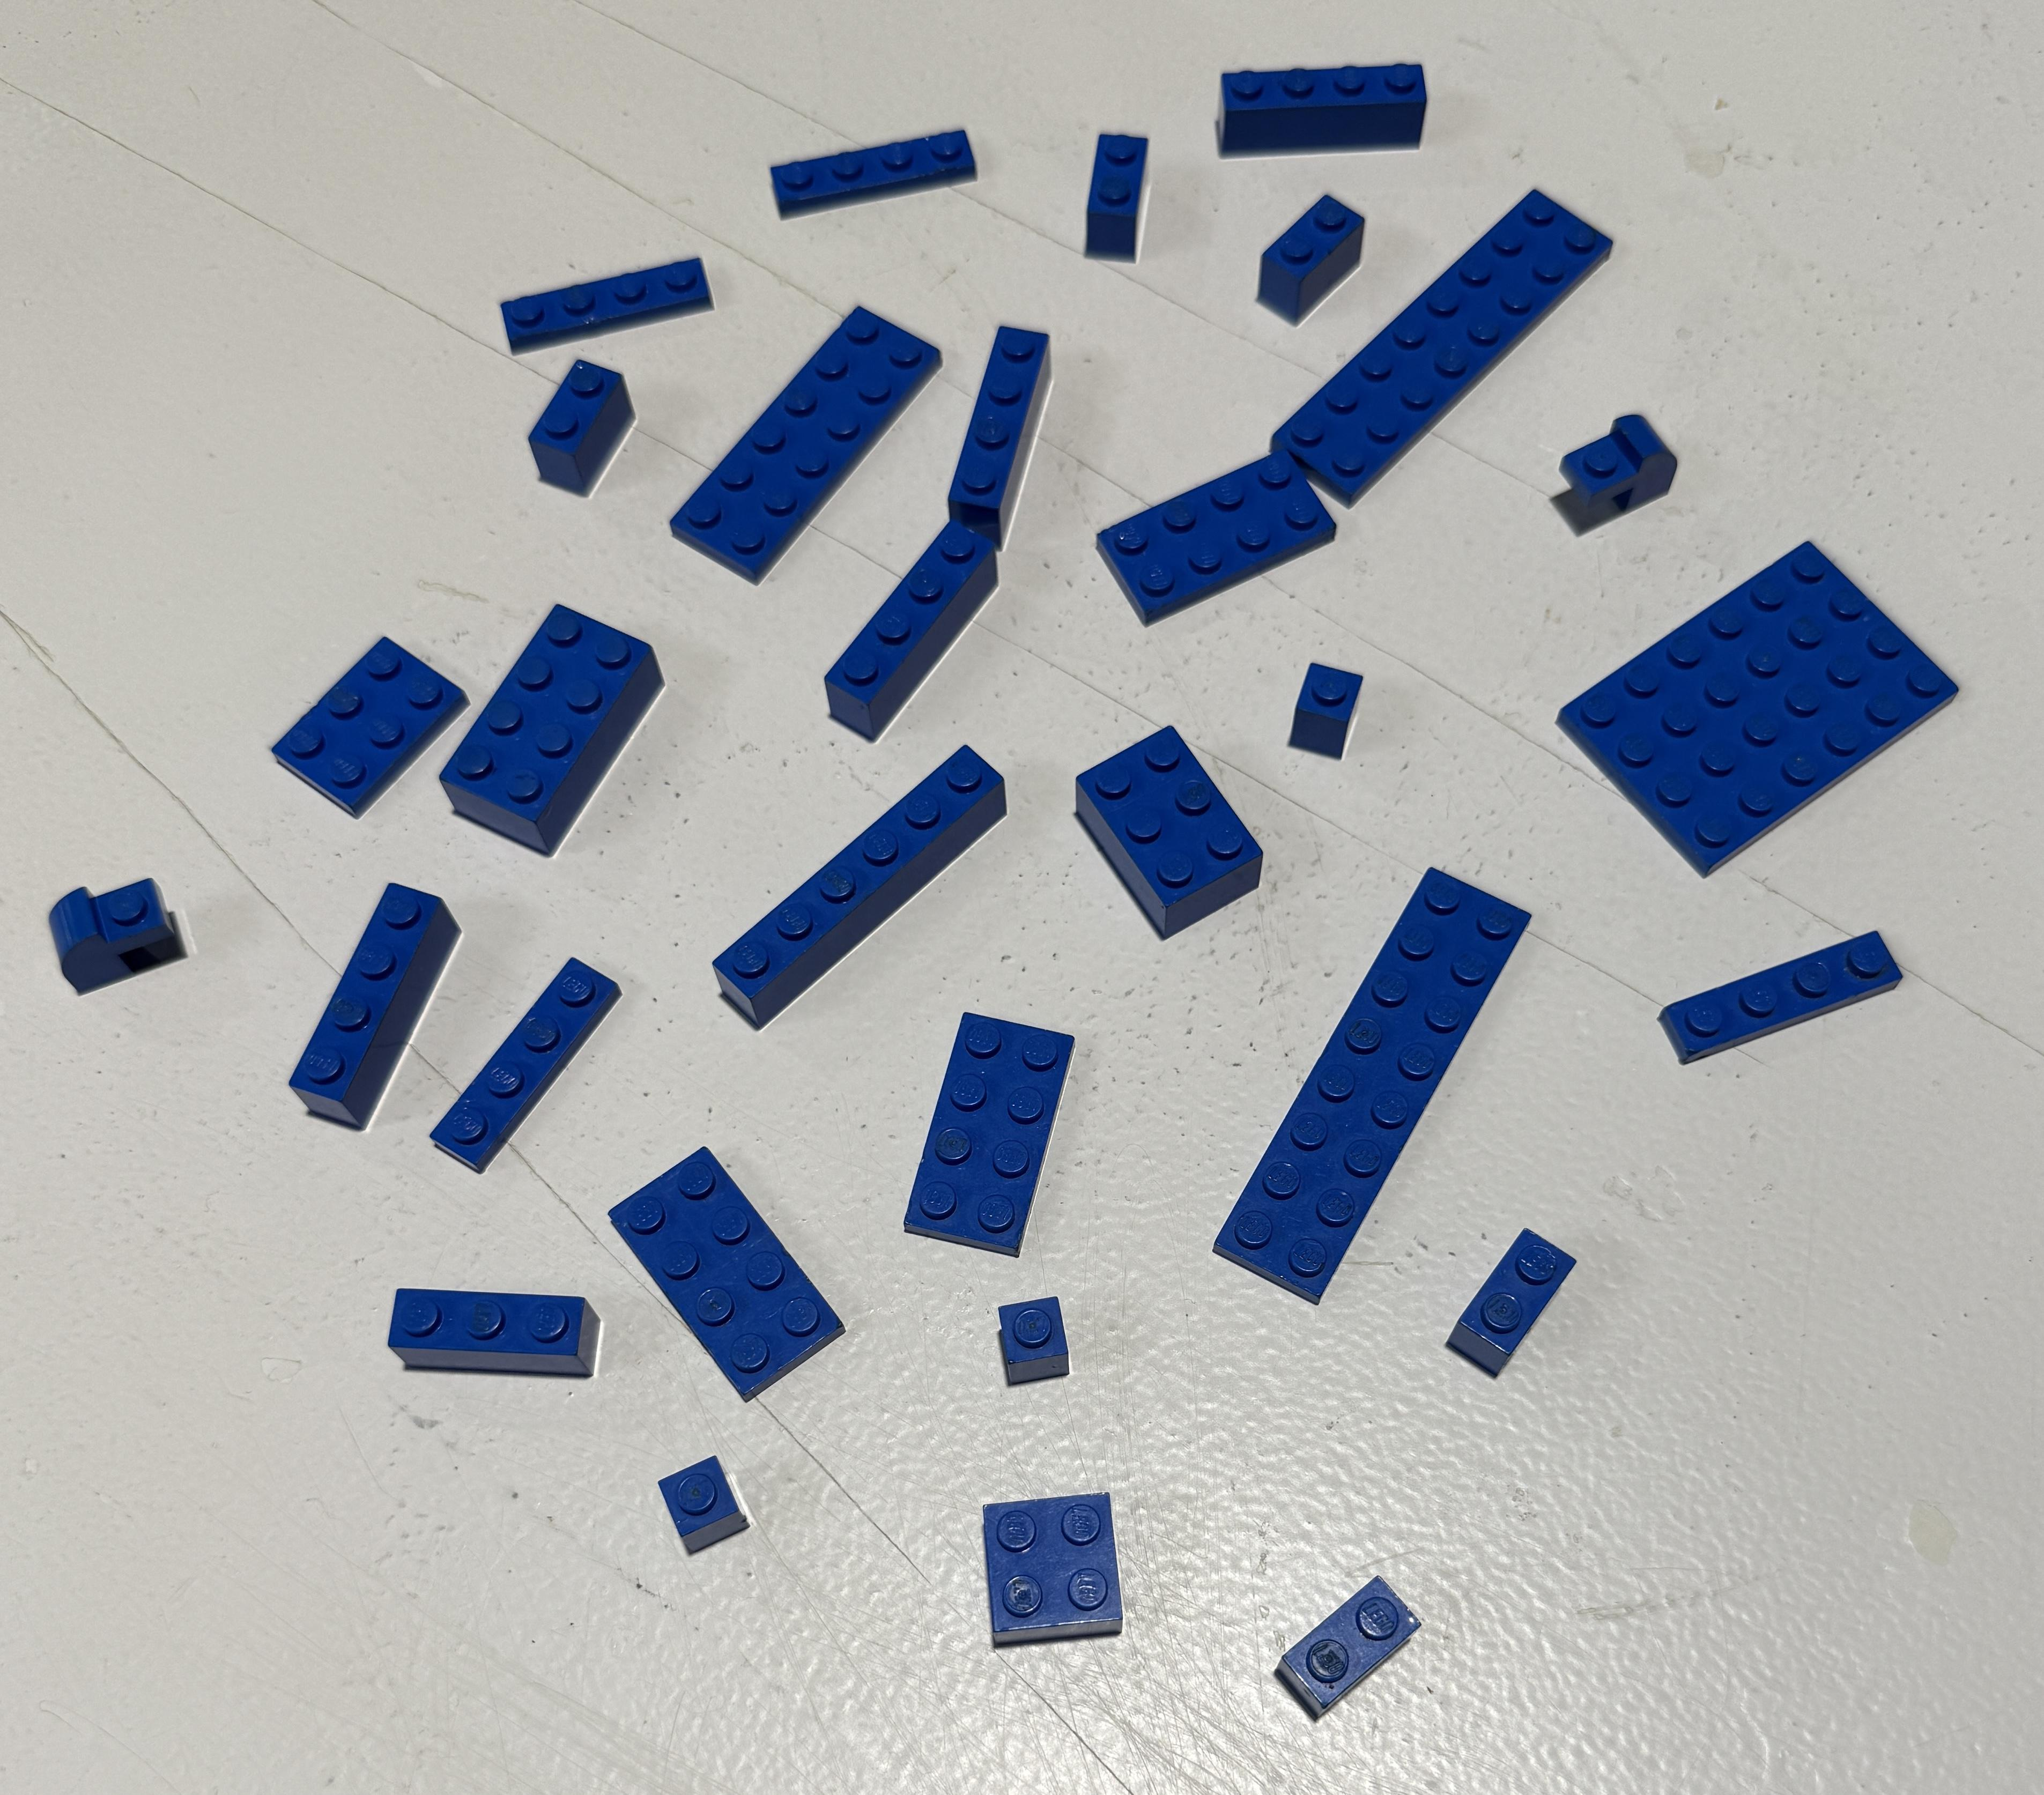brick_1x1: (629, 1430, 793, 1566), (1276, 634, 1389, 784), (970, 1284, 1090, 1413)
brick_1x2: (1246, 1553, 1453, 1727), (1227, 156, 1401, 346), (1443, 1204, 1599, 1401), (508, 344, 655, 520), (1058, 108, 1182, 295)
brick_1x3: (356, 1248, 645, 1399)
brick_1x4: (261, 857, 480, 1154), (805, 499, 1013, 747), (1196, 28, 1460, 189), (926, 301, 1076, 561)
brick_2x2: (965, 1465, 1149, 1663)
brick_2x3: (1057, 704, 1298, 968)
brick_2x4: (426, 591, 655, 874)
